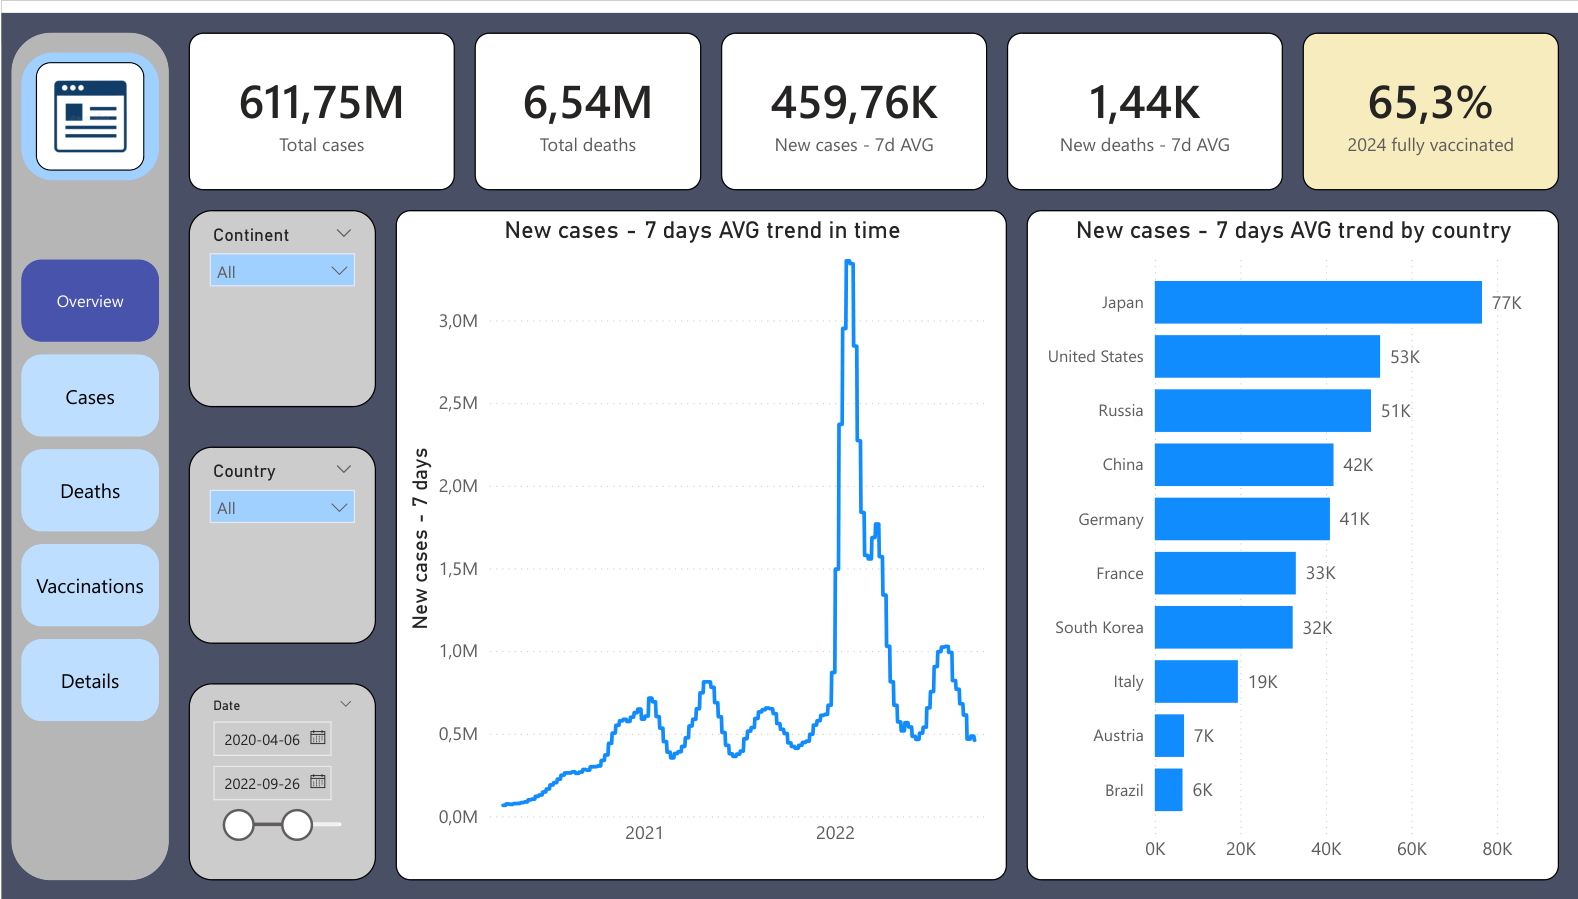

Layout of this report page (visuals, bound fields, positions):
{"tool":"powerbi","page":{"name":"Overview","canvas":[1280,720],"ordinal":0},"visuals":[{"type":"shape","box":[8,16,128,688],"z":0},{"type":"pageNavigator","box":[16,200,112,376],"z":1000},{"type":"cardVisual","fields":{"Data":["covid_final.Total cases"]},"box":[152,16,216,128],"z":2000},{"type":"cardVisual","fields":{"Data":["covid_final.Total deaths"]},"box":[384,16,184,128],"z":3000},{"type":"cardVisual","fields":{"Data":["covid_final.New cases - 7 days"]},"box":[584,16,216,128],"z":4000},{"type":"cardVisual","fields":{"Data":["covid_final.New deaths - 7 days"]},"box":[816,16,224,128],"z":5000},{"type":"cardVisual","fields":{"Data":["covid_final.Vaccinated %"]},"box":[1056,16,208,128],"z":6000},{"type":"slicer","fields":{"Values":["DateTable.Date"]},"box":[152,544,152,160],"z":7000},{"type":"slicer","fields":{"Values":["covid_final.location"]},"box":[152,352,152,160],"z":8000},{"type":"slicer","fields":{"Values":["covid_final.continent"]},"box":[152,160,152,160],"z":9000},{"type":"shape","box":[16,32,112,104],"z":10000},{"type":"image","box":[28,39.6,88,88],"z":11000},{"type":"lineChart","title":"New cases - 7 days AVG trend in time","fields":{"Y":["covid_final.New cases 7d (Trend, Sum)"],"Category":["covid_final.date"]},"box":[320,160,496,544],"z":12000},{"type":"clusteredBarChart","title":"New cases - 7 days AVG trend by country","fields":{"Category":["covid_final.location"],"Y":["covid_final.New cases 7d (Country, Latest snapshotttttt)"]},"box":[832,160,432,544],"z":13000}]}

Visuals, with their boxes in screenshot pixels (x1, y1, x2, y2), scaled from the page's 1280x720 canvas onto the 1578x899 screenshot:
shape: rect(10, 20, 168, 879)
pageNavigator: rect(20, 250, 158, 719)
cardVisual - covid_final.Total cases: rect(187, 20, 454, 180)
cardVisual - covid_final.Total deaths: rect(473, 20, 700, 180)
cardVisual - covid_final.New cases - 7 days: rect(720, 20, 986, 180)
cardVisual - covid_final.New deaths - 7 days: rect(1006, 20, 1282, 180)
cardVisual - covid_final.Vaccinated %: rect(1302, 20, 1558, 180)
slicer - DateTable.Date: rect(187, 679, 375, 879)
slicer - covid_final.location: rect(187, 440, 375, 639)
slicer - covid_final.continent: rect(187, 200, 375, 400)
shape: rect(20, 40, 158, 170)
image: rect(35, 49, 143, 159)
"New cases - 7 days AVG trend in time" lineChart: rect(394, 200, 1006, 879)
"New cases - 7 days AVG trend by country" clusteredBarChart: rect(1026, 200, 1558, 879)
